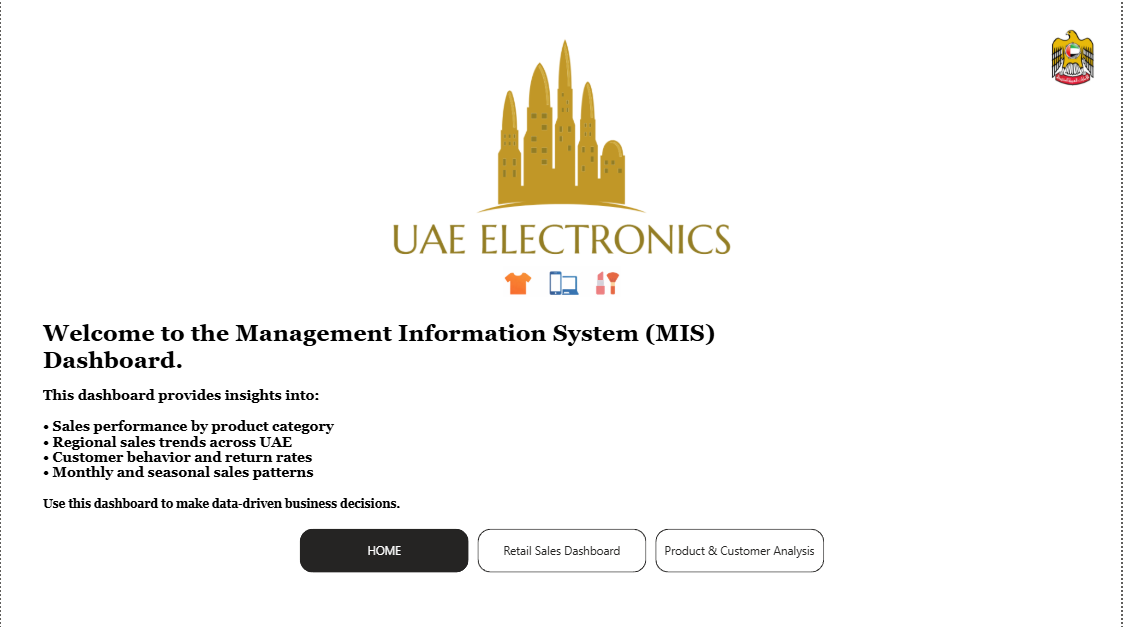

The page's visual inventory and layout, read from the dashboard file:
{"tool":"powerbi","page":{"name":"HOME","canvas":[1280,720],"ordinal":0},"visuals":[{"type":"image","box":[315.5,0,646.9,280],"z":0},{"type":"image","box":[1188.6,28.6,74.3,74.3],"z":1000},{"type":"textbox","box":[42.9,360,944.3,337.1],"z":2000},{"type":"image","box":[484.3,298.6,312.9,45.7],"z":3000},{"type":"pageNavigator","box":[341.4,604.3,600,50],"z":4000}]}

Visuals, with their boxes in screenshot pixels (x1, y1, x2, y2), scaled from the page's 1280x720 canvas onto the 1123x627 screenshot:
image: box(277, 0, 844, 244)
image: box(1043, 25, 1108, 90)
textbox: box(38, 314, 866, 607)
image: box(425, 260, 699, 300)
pageNavigator: box(300, 526, 826, 570)
